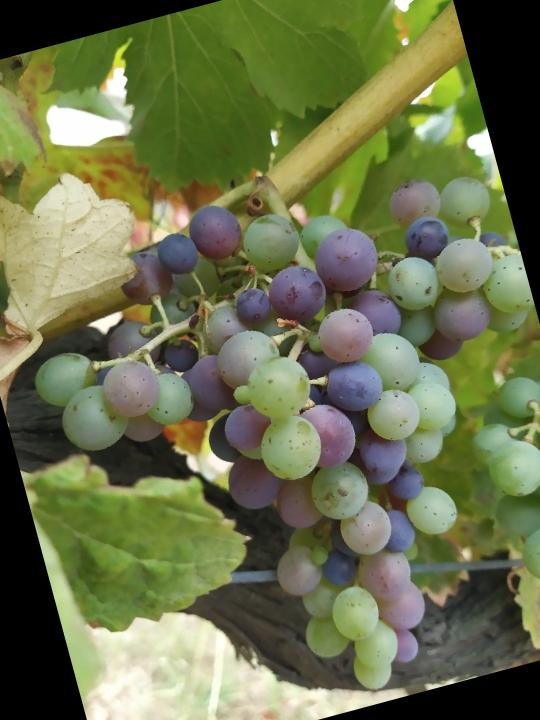grape: (0, 128, 540, 720)
